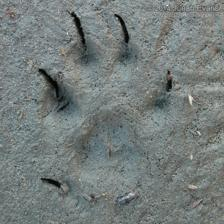dog: (34, 8, 182, 205)
